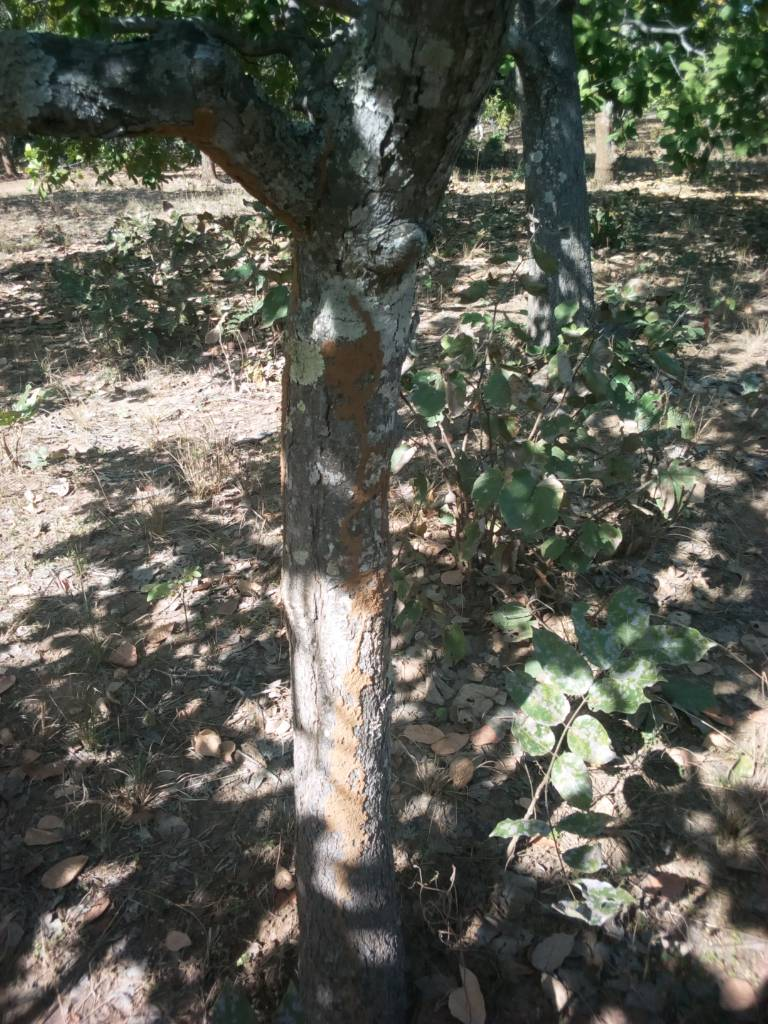Termites: (327, 321, 386, 913)
